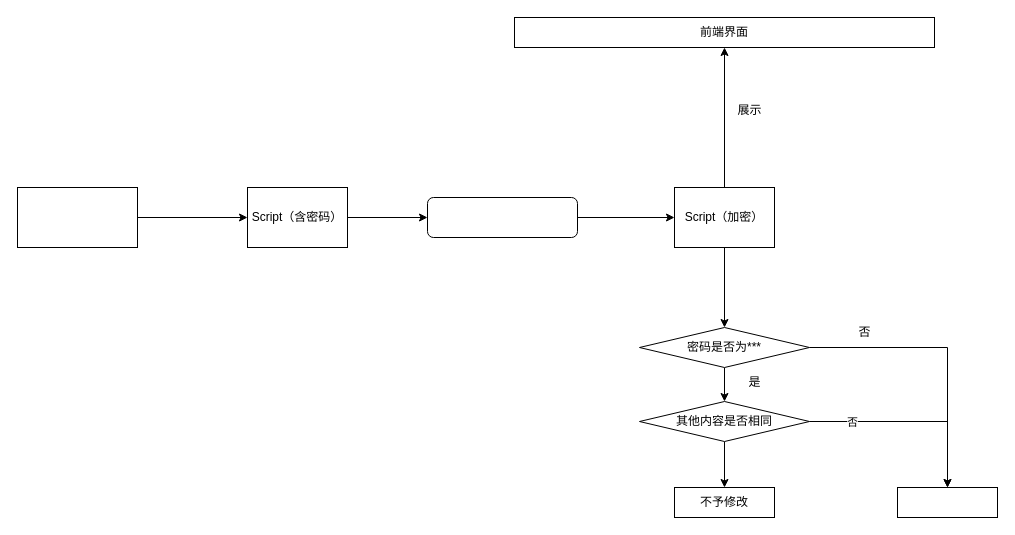
The diagram is 1015 pixels wide and 535 high, and some of its shapes have lost their labels. The shapes that lost their labels are listed below. From the top down, each one's centre as x and y in pixels, then its label:
At point 77,217: "表单任务-脚本".
At point 502,217: "query-detail(回显加密)".
At point 947,502: "修改保存".
